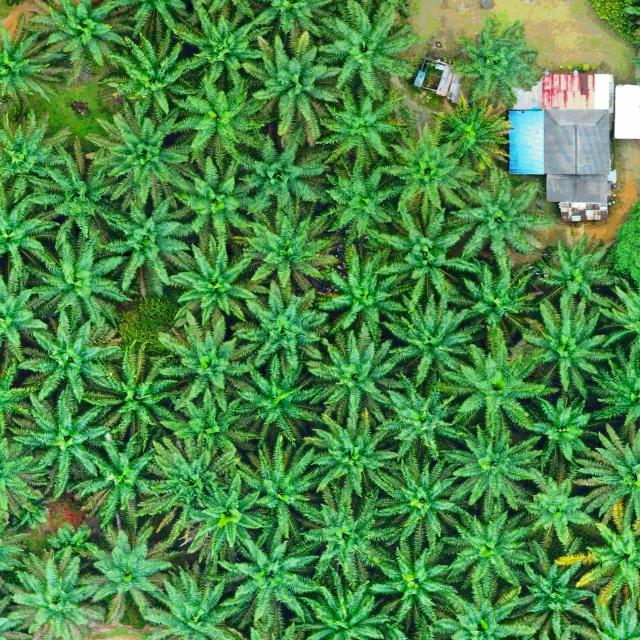Tree: (18, 224, 136, 335), (132, 427, 242, 538), (508, 295, 623, 401), (240, 31, 345, 147), (448, 337, 563, 439), (292, 478, 406, 580), (86, 104, 195, 210), (3, 392, 108, 502), (374, 205, 486, 306), (9, 305, 124, 402), (225, 436, 324, 548), (146, 314, 253, 417), (450, 160, 552, 266), (314, 0, 424, 98), (95, 192, 197, 296), (2, 540, 108, 640), (165, 0, 273, 97), (232, 204, 340, 298), (373, 373, 479, 468), (302, 327, 408, 422), (26, 137, 119, 245), (375, 125, 477, 223), (439, 499, 542, 596), (215, 528, 321, 622), (442, 412, 541, 512), (365, 456, 468, 550), (299, 407, 399, 503), (171, 152, 274, 245), (449, 257, 540, 361), (87, 522, 180, 622), (232, 272, 328, 368), (316, 151, 412, 247), (65, 429, 157, 529), (135, 557, 245, 640), (449, 12, 544, 108), (170, 75, 270, 166), (382, 294, 478, 388), (166, 234, 260, 330), (233, 127, 332, 218), (82, 358, 182, 448), (314, 248, 410, 340), (556, 507, 640, 612), (498, 549, 594, 640), (224, 358, 320, 446), (27, 0, 133, 79), (375, 531, 460, 628), (0, 8, 75, 116), (102, 30, 196, 116), (182, 472, 276, 556), (571, 417, 640, 530), (318, 83, 404, 171), (0, 105, 77, 203), (530, 225, 622, 302), (429, 576, 538, 640), (522, 462, 598, 552), (287, 575, 389, 640), (436, 94, 516, 174), (158, 385, 247, 453), (0, 180, 59, 280), (585, 339, 640, 437), (528, 388, 592, 469), (593, 268, 640, 358), (573, 589, 640, 640)
